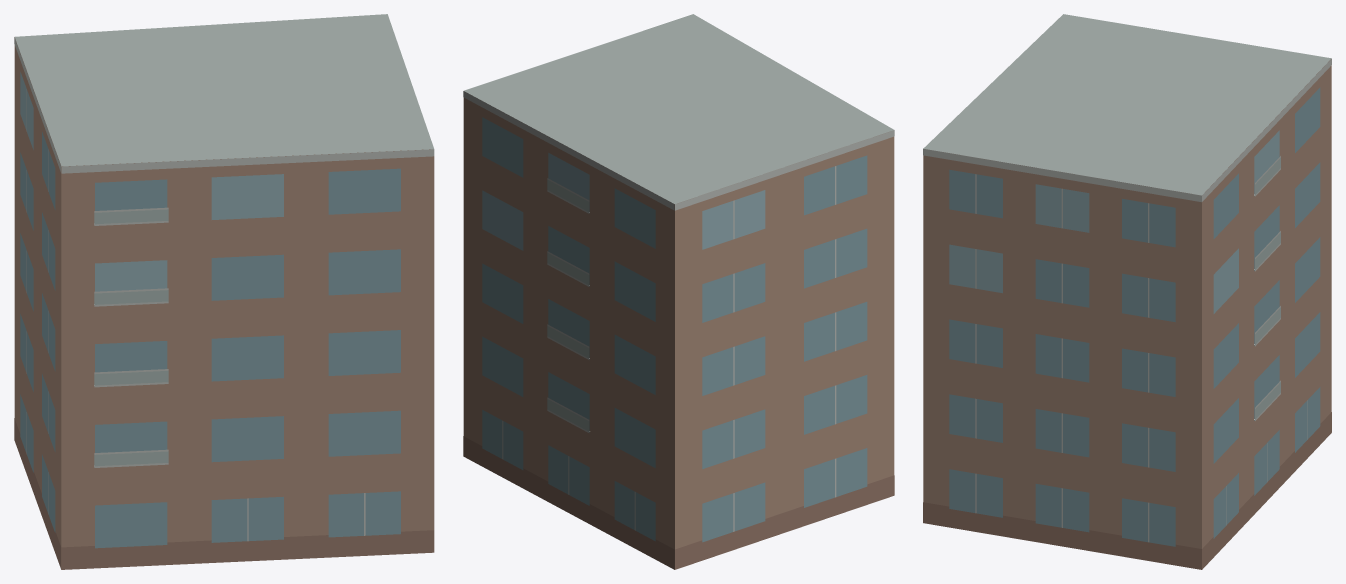
File: survey-upis-32505033.glb
3 views of the same model, side by side, from view 1: azimuth 30°, elevation 25°; view 2: azimuth 150°, elevation 25°; view 3: azimuth 270°, elevation 25° (orthographic). The views are drawn at different scales.
Parts seen in each view (by area): view 1: survey-upis-32505033.tmp; view 2: survey-upis-32505033.tmp; view 3: survey-upis-32505033.tmp.
Part boxes in pixels (x1=…): survey-upis-32505033.tmp: x1=14, y1=14, x2=434, y2=569; survey-upis-32505033.tmp: x1=463, y1=14, x2=894, y2=569; survey-upis-32505033.tmp: x1=923, y1=14, x2=1331, y2=569.
Bounding box in the file's own units: 14.2 × 13.65 × 13.51.
